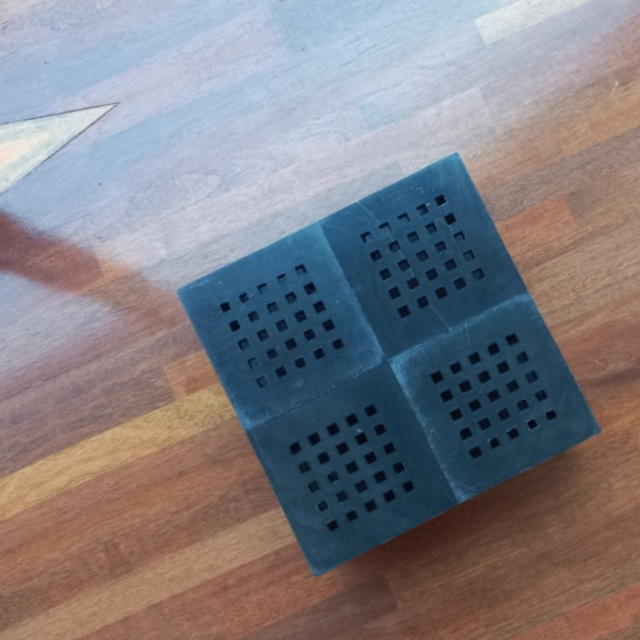pallet: (176, 129, 622, 590)
